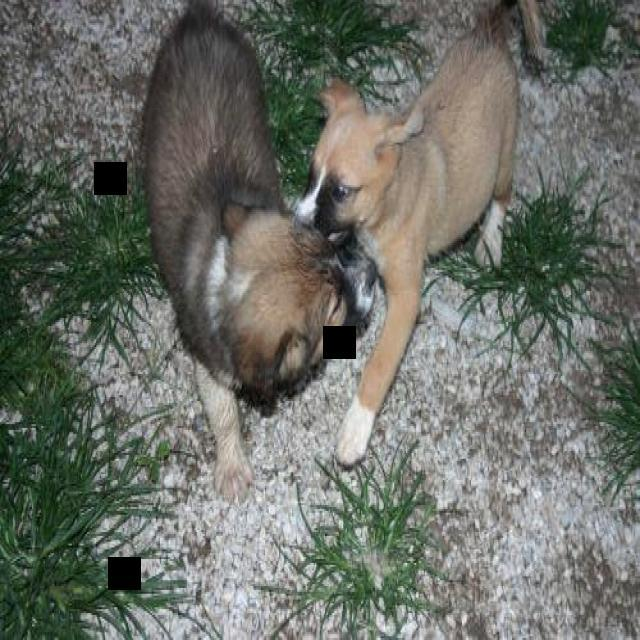puppy-dog: (138, 7, 390, 507), (296, 2, 522, 470)
